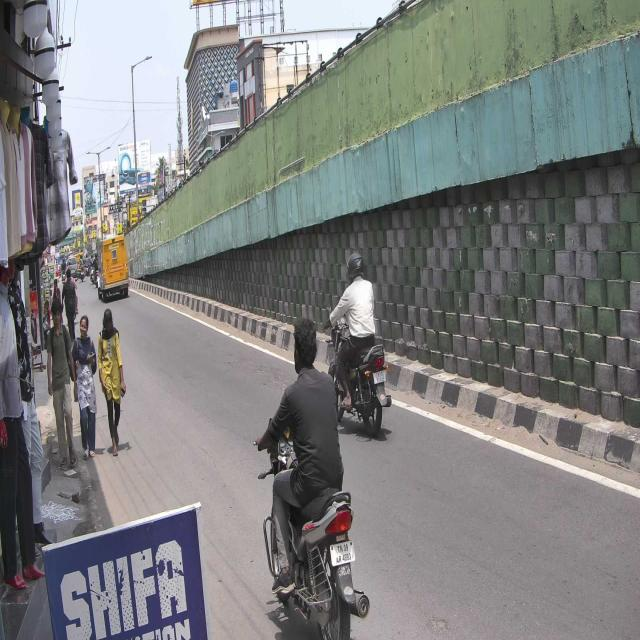single_rider: (254, 314, 363, 640)
